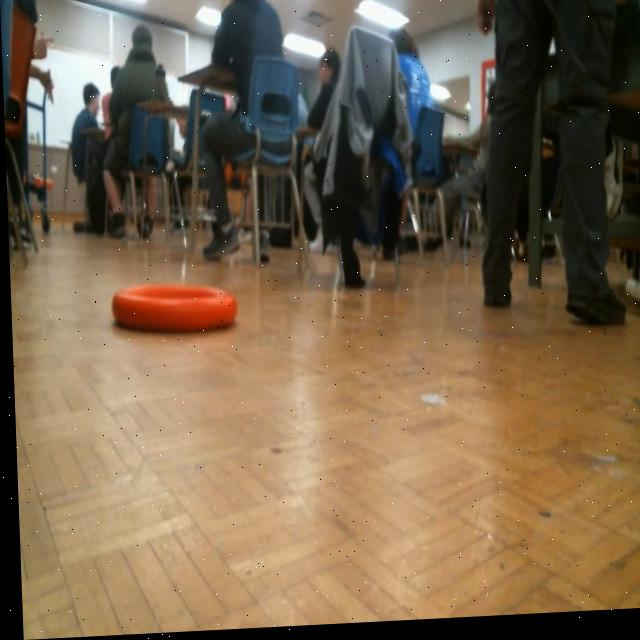note: (106, 276, 238, 342)
